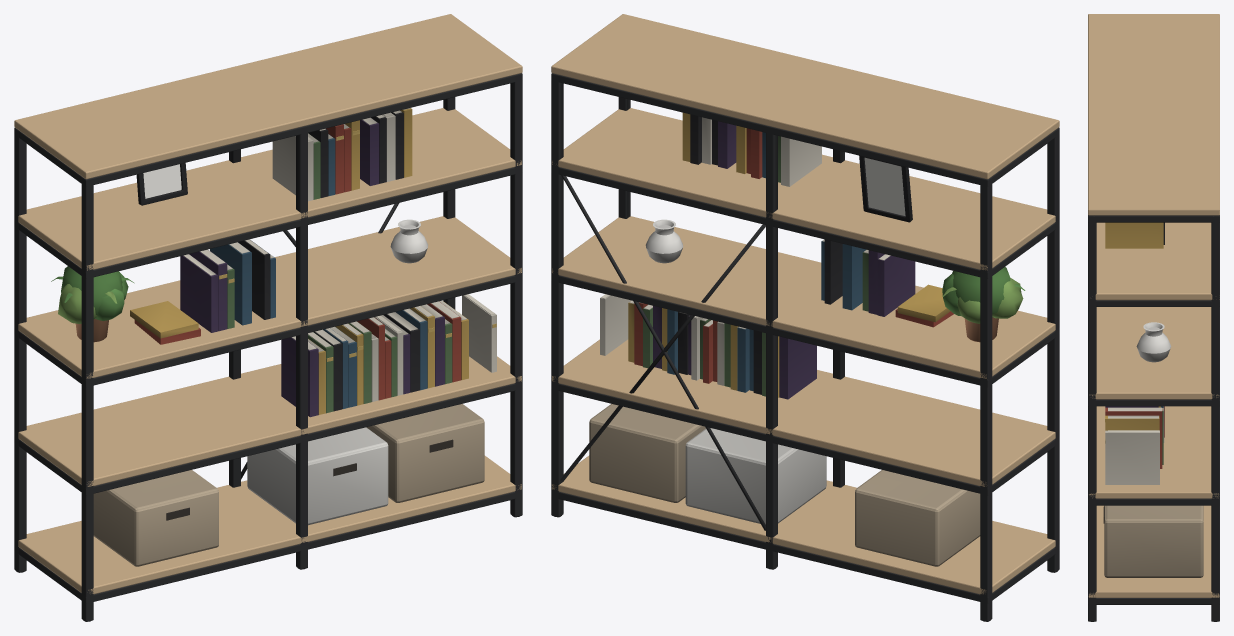
Rendered from shelvingIndustrial.glb.
3 views of the same model, side by side, from view 1: azimuth 30°, elevation 25°; view 2: azimuth 150°, elevation 25°; view 3: azimuth 270°, elevation 25° (orthographic). The views are drawn at different scales.
Visible parts, largest first — view 1: shelvingIndustrial; view 2: shelvingIndustrial; view 3: shelvingIndustrial.
Part boxes in pixels (box(x1,y1,x2,y2)): shelvingIndustrial: box(14, 14, 522, 621); shelvingIndustrial: box(551, 14, 1059, 621); shelvingIndustrial: box(1088, 14, 1219, 621).
Size of the model in its own units: 1.86 by 1.83 by 0.53.
